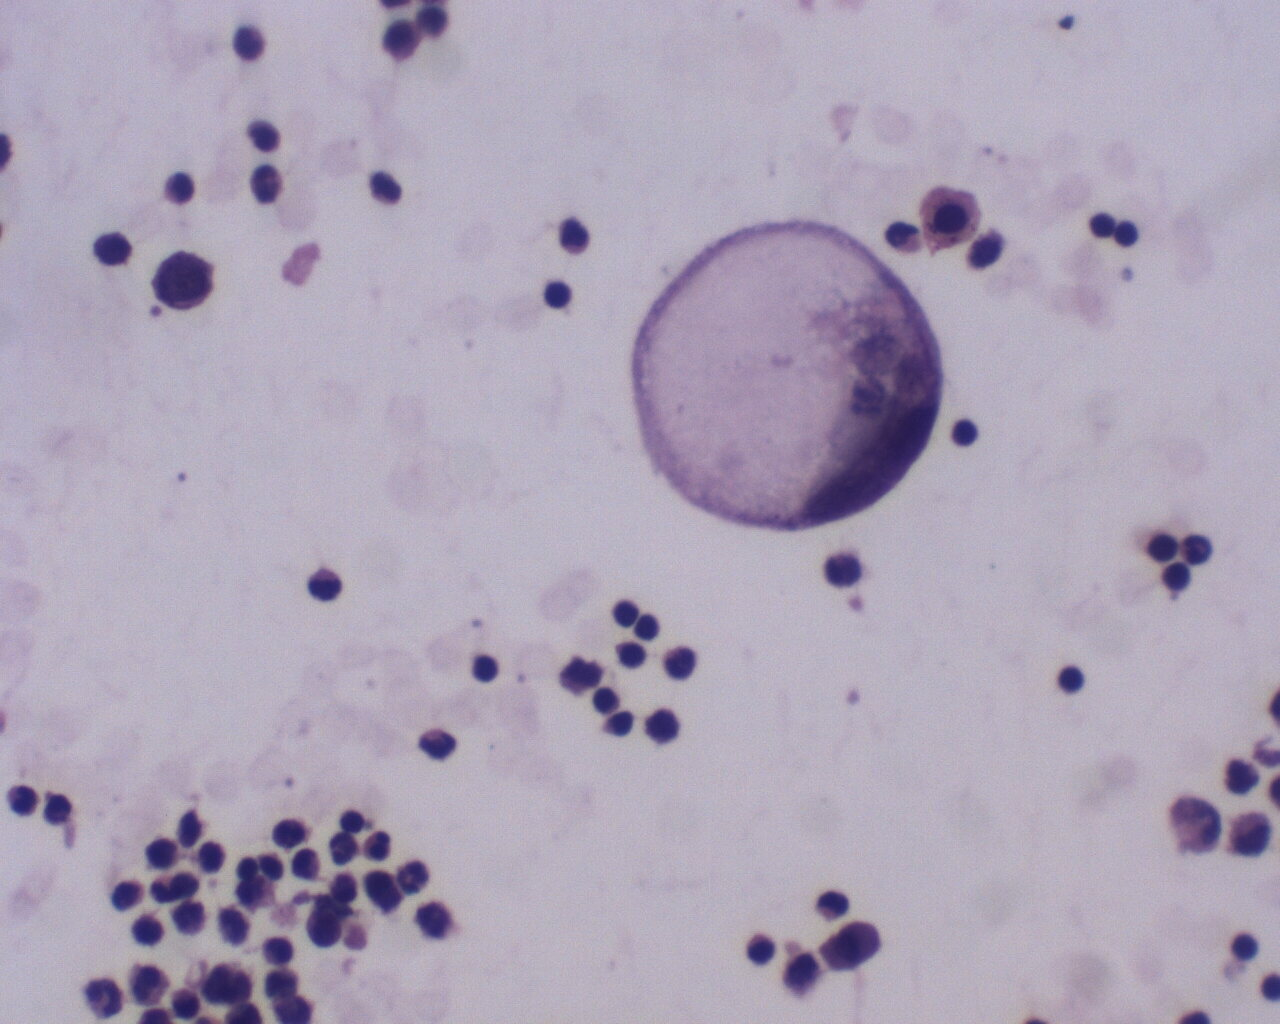ab: (148, 247, 220, 316)
histo: (629, 208, 950, 536)
lymph: (1044, 656, 1093, 703), (1159, 559, 1198, 599), (270, 811, 308, 850), (537, 273, 576, 310), (127, 913, 167, 949), (1229, 929, 1266, 965), (591, 681, 624, 718), (951, 414, 981, 451), (469, 653, 503, 686), (262, 934, 296, 967), (609, 594, 641, 628), (1113, 216, 1143, 252)
meso: (916, 181, 982, 253)
neutro: (80, 975, 133, 1024), (416, 723, 463, 767), (298, 565, 346, 606), (389, 854, 433, 897), (553, 211, 595, 255), (4, 775, 42, 819), (360, 828, 398, 866), (815, 884, 854, 922)
